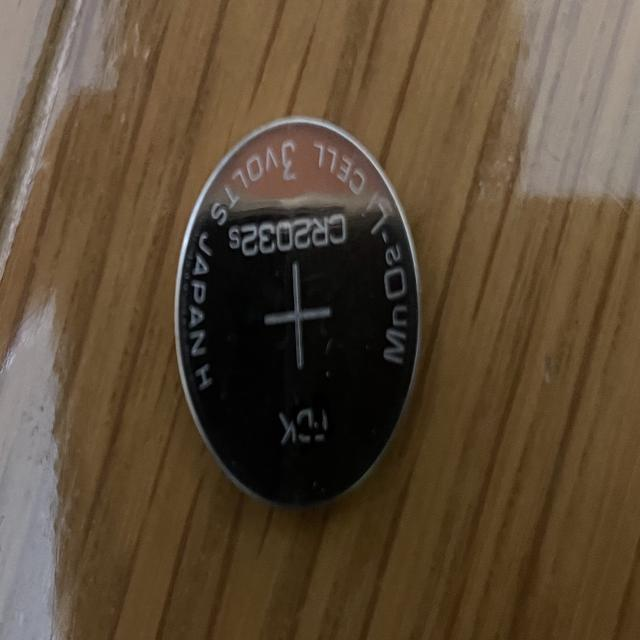COIN: (171, 117, 423, 516)
